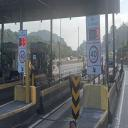speed_limit_40: (88, 46, 98, 63), (20, 50, 26, 63)
